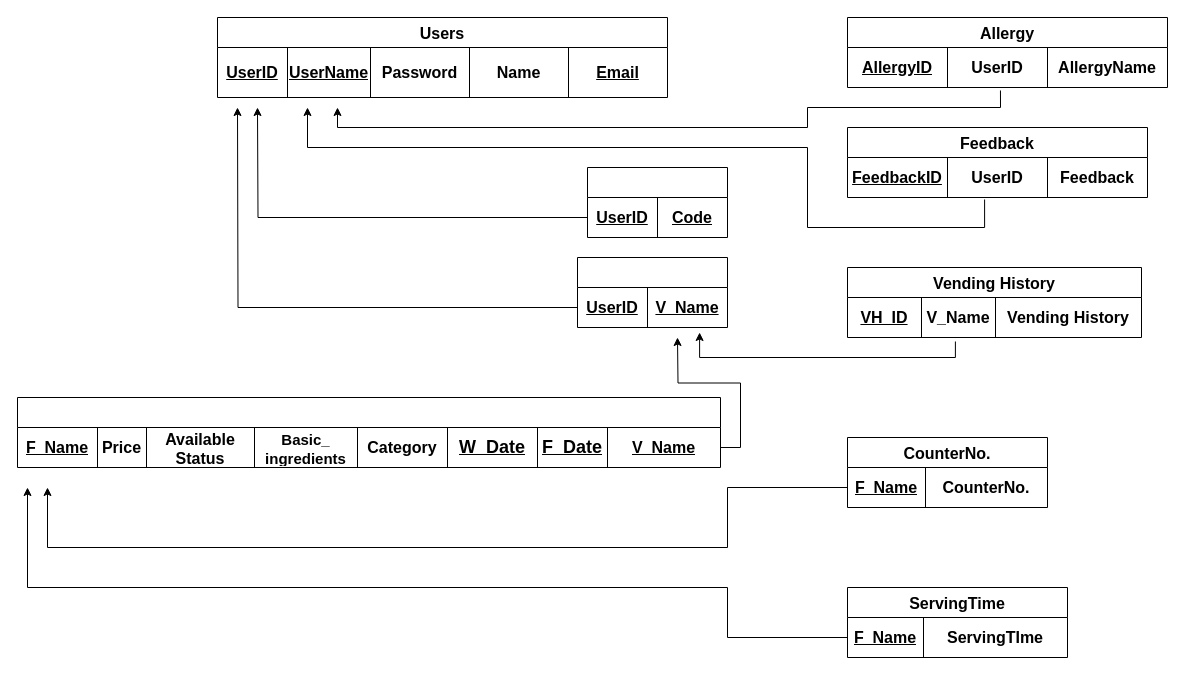
Some shapes in this 1185 by 675 pixel diagram are drawn without their labels. Each missing label, with the box of its shape:
Admin: (586, 166, 728, 238)
Food: (16, 396, 720, 468)
Vendor: (576, 256, 728, 328)
